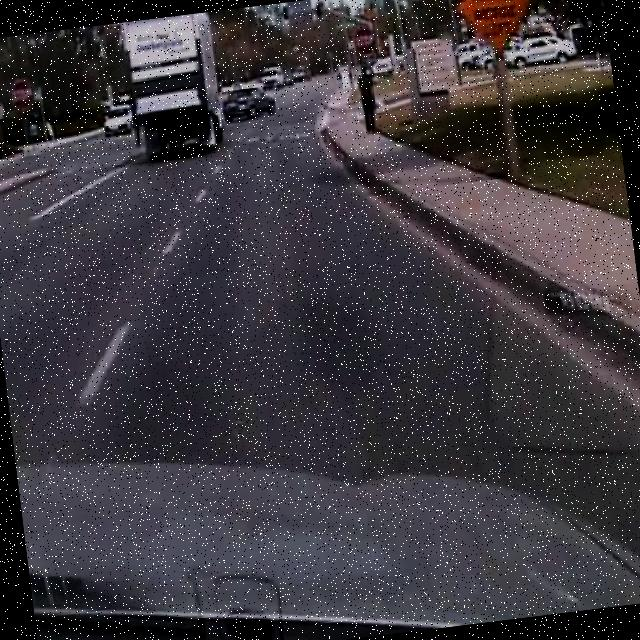Stop: (351, 26, 379, 56)
